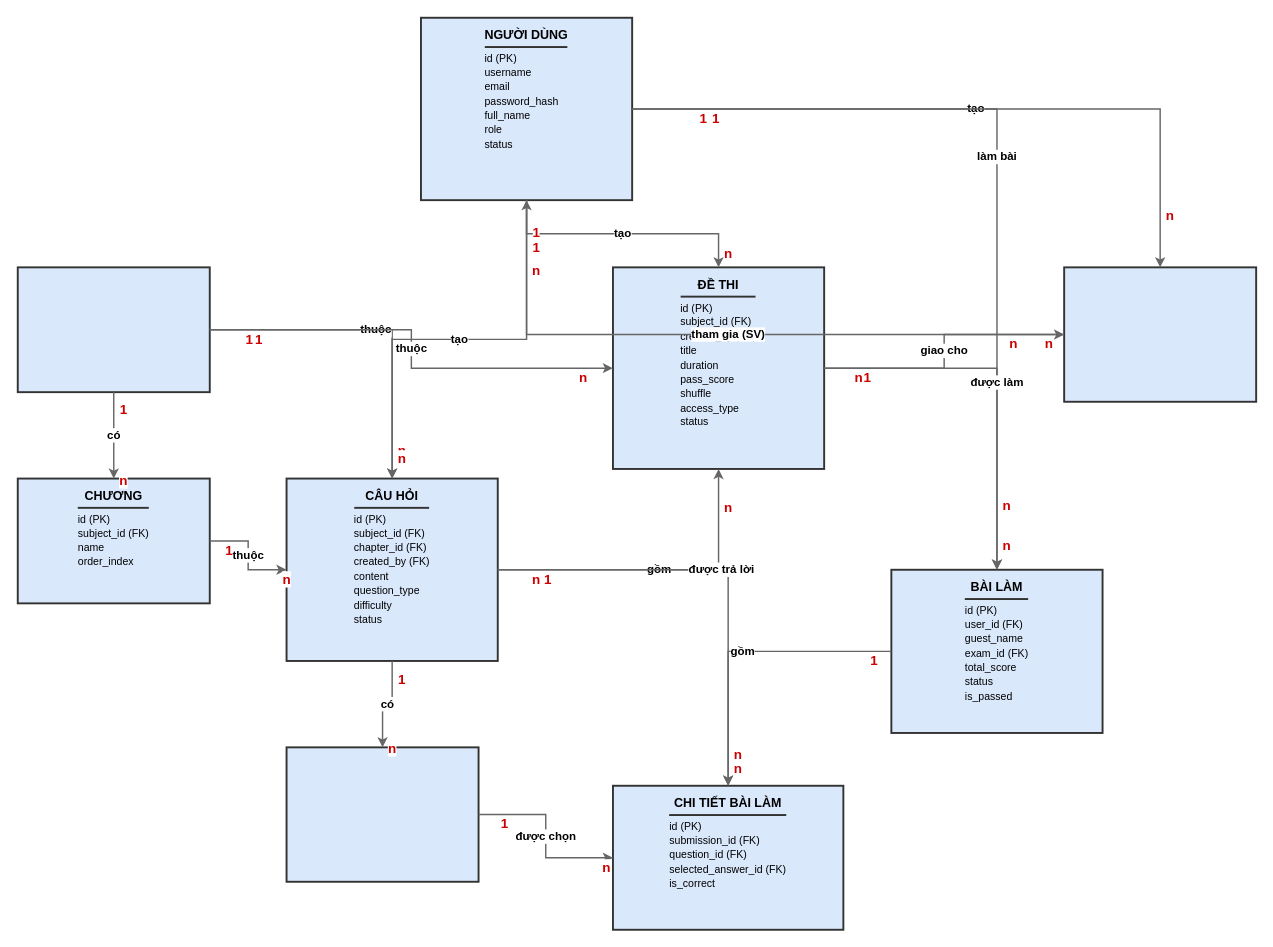
The diagram is 1273 pixels wide and 947 high, and some of its shapes have lost their labels. The centre of each missing label's shape, as x and y in pixels:
"LỚP HỌC id (PK) created_by (FK) code name is_public" goes at point 1160,334.
"MÔN HỌC id (PK) name level description" goes at point 113,329.
"ĐÁP ÁN id (PK) question_id (FK) label content is_correct" goes at point 382,814.
